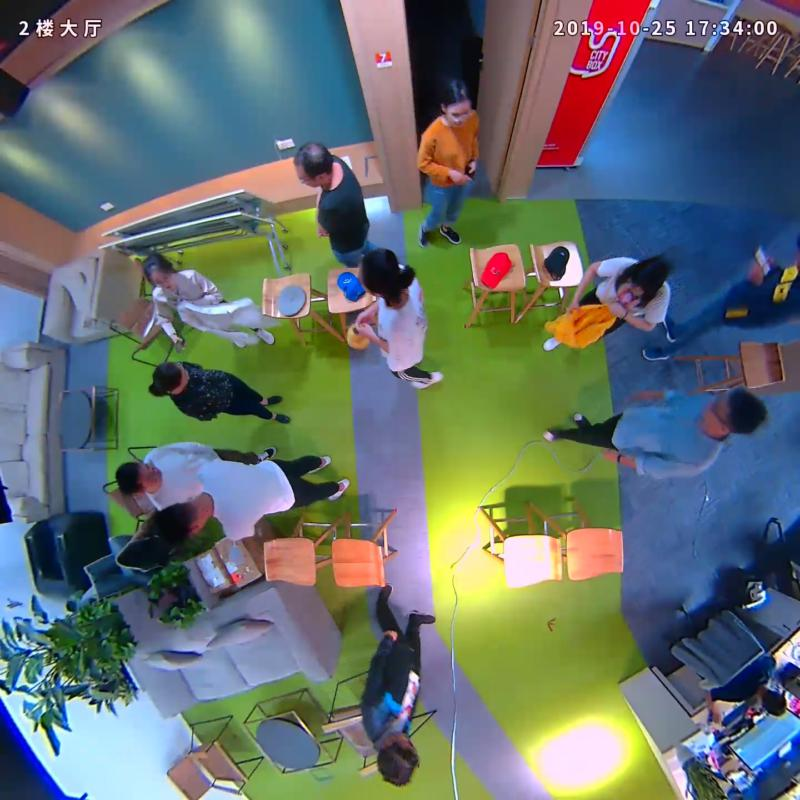head: (703, 386, 766, 439), (376, 731, 420, 787), (152, 501, 205, 544), (358, 248, 401, 296), (293, 142, 334, 188), (115, 461, 164, 495), (440, 76, 472, 128), (628, 256, 668, 294), (142, 253, 175, 292), (151, 362, 188, 395)
